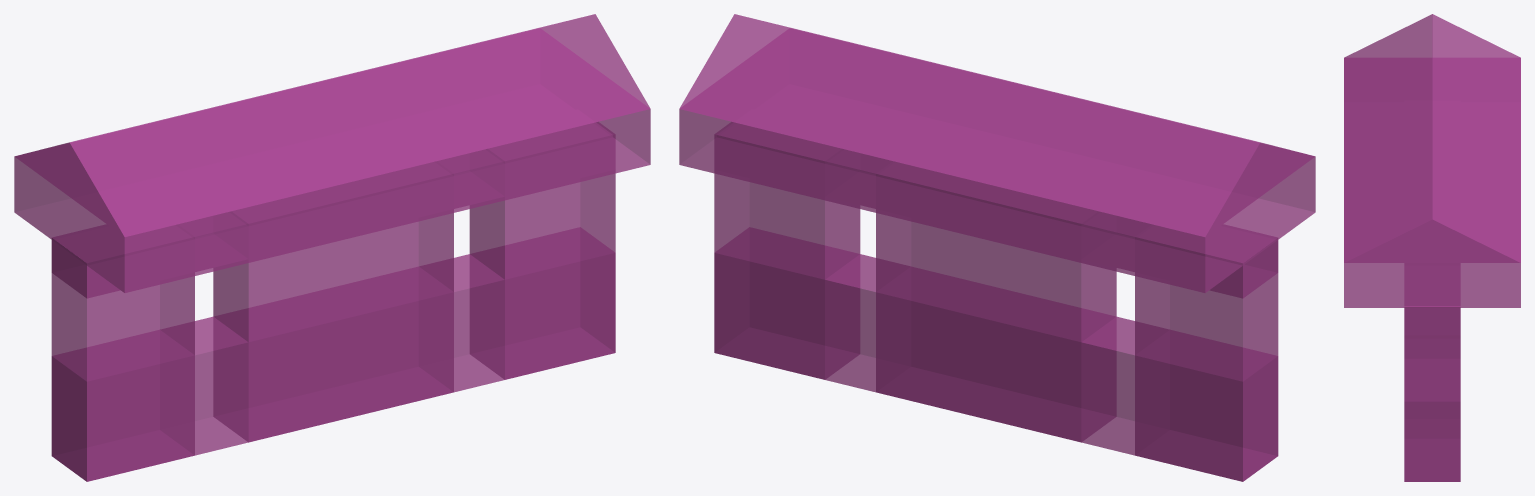
The model's file is SM_Bld_Fence_Dobei_Double_01_Alt_01_Collision_01.fbx.
3 renders of one model, left to right at view 1: azimuth 30°, elevation 25°; view 2: azimuth 150°, elevation 25°; view 3: azimuth 270°, elevation 25°, orthographic. The views are drawn at different scales.
Parts seen in each view (by area): view 1: SM_Bld_Fence_Dobei_Double_01_Alt_01_Collision_01; view 2: SM_Bld_Fence_Dobei_Double_01_Alt_01_Collision_01; view 3: SM_Bld_Fence_Dobei_Double_01_Alt_01_Collision_01.
Boxes of the visible parts, x1,y1,x2,y2 form: SM_Bld_Fence_Dobei_Double_01_Alt_01_Collision_01: (14, 14, 650, 481); SM_Bld_Fence_Dobei_Double_01_Alt_01_Collision_01: (679, 14, 1315, 481); SM_Bld_Fence_Dobei_Double_01_Alt_01_Collision_01: (1344, 14, 1520, 481).
Bounding box in the file's own units: 510 × 301 × 185.
